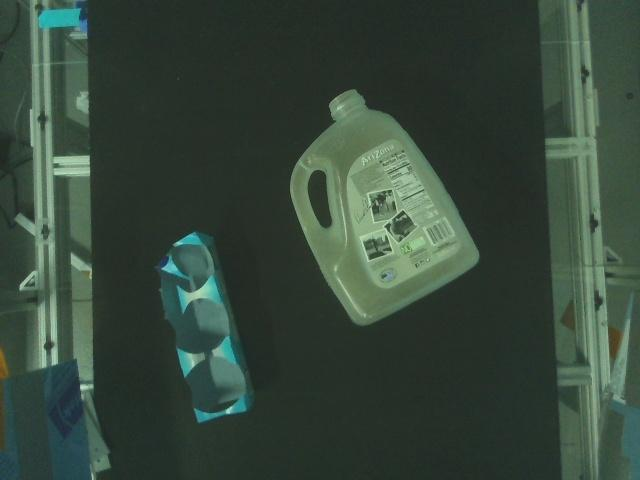cardboard: (153, 229, 258, 426)
plastic: (289, 87, 482, 327)
